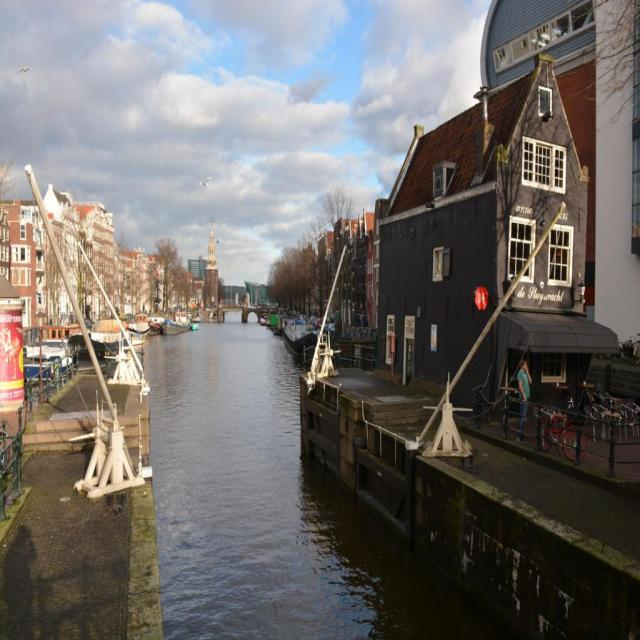Boat: (158, 316, 190, 335)
